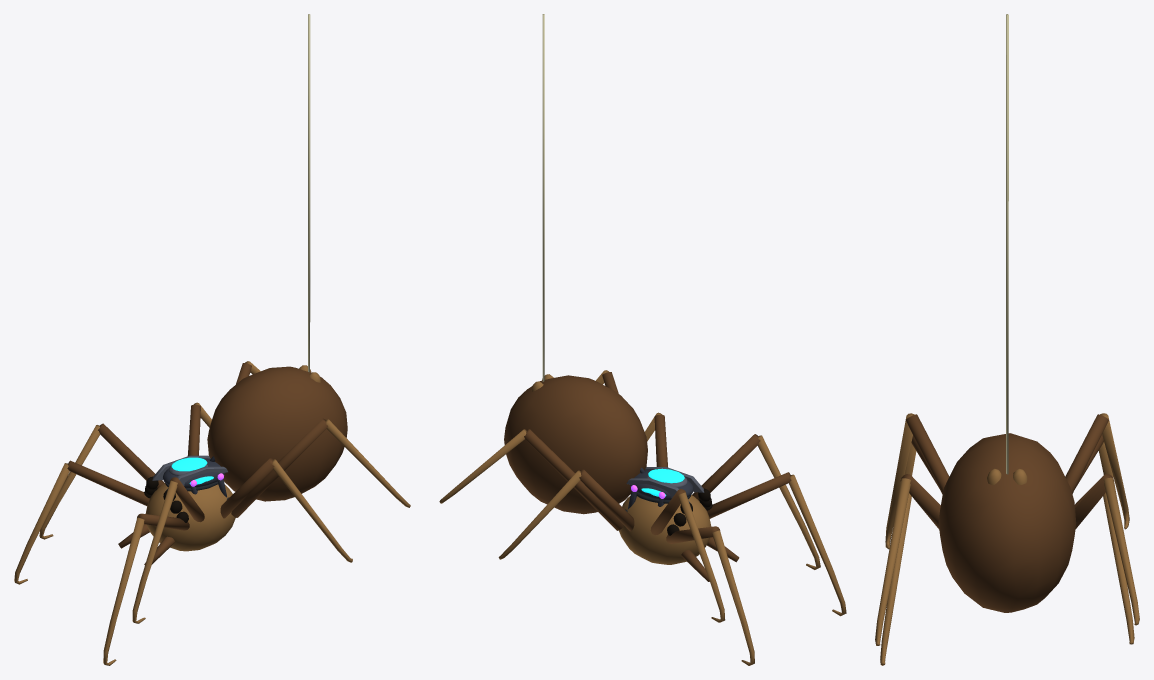
Rendered from controlled_hanging_spider.glb.
The picture shows the model from 3 angles, left to right: view 1: azimuth 30°, elevation 25°; view 2: azimuth 150°, elevation 25°; view 3: azimuth 270°, elevation 25°; orthographic projection. The views are drawn at different scales.
Parts seen in each view (by area): view 1: NaturalFaunaGeometry, AlienControlDeviceGeometry, SilkThread; view 2: NaturalFaunaGeometry, AlienControlDeviceGeometry, SilkThread; view 3: NaturalFaunaGeometry, SilkThread.
Boxes of the visible parts, x1,y1,x2,y2 form: NaturalFaunaGeometry: (14, 361, 410, 665); AlienControlDeviceGeometry: (152, 455, 229, 499); SilkThread: (308, 14, 310, 372); NaturalFaunaGeometry: (439, 370, 846, 665); AlienControlDeviceGeometry: (625, 467, 704, 511); SilkThread: (542, 14, 544, 381); NaturalFaunaGeometry: (875, 413, 1139, 665); SilkThread: (1006, 14, 1008, 474).
Size of the model in its own units: 1.81 by 3.22 by 1.08.
